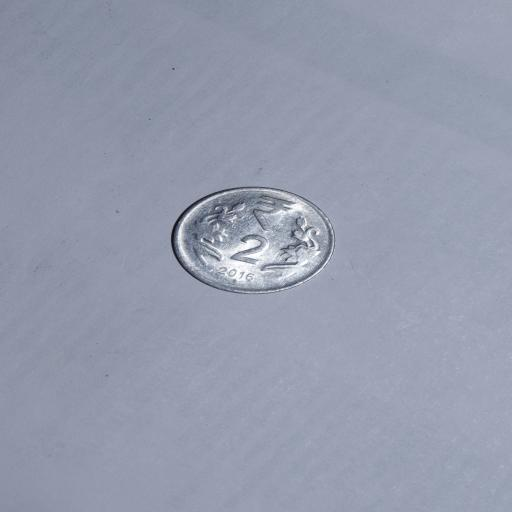rupee2: (170, 188, 336, 293)
